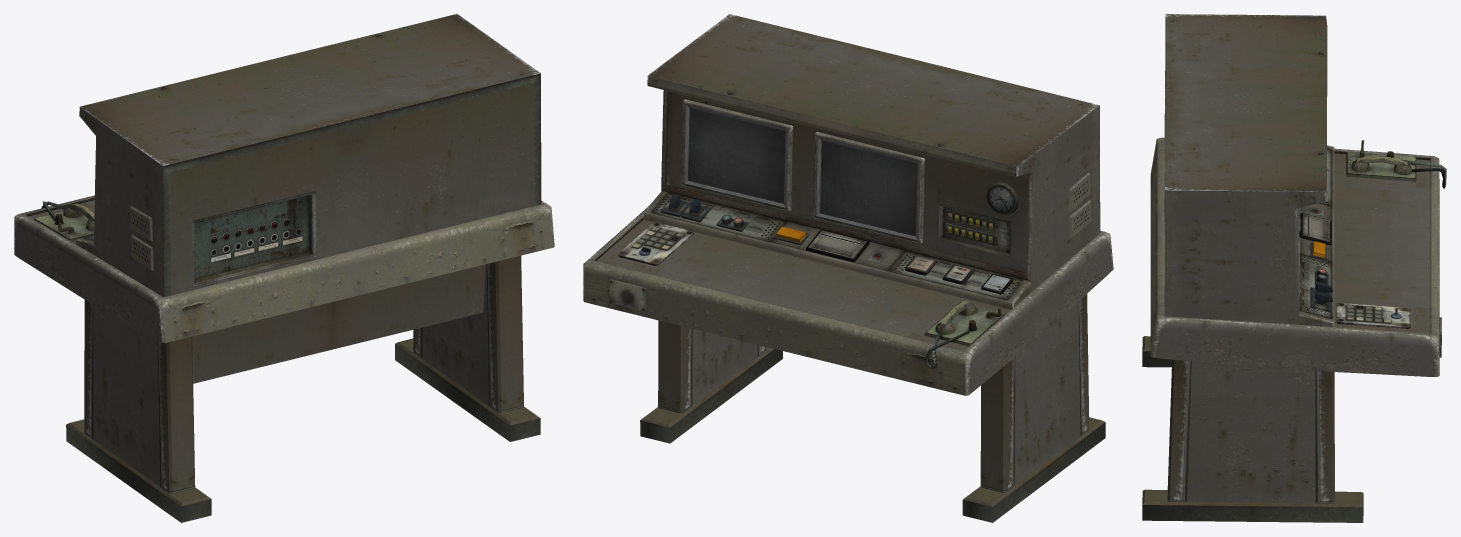
The model's file is MedicalComp.fbx.
The picture shows the model from 3 angles, left to right: view 1: azimuth 30°, elevation 25°; view 2: azimuth 150°, elevation 25°; view 3: azimuth 270°, elevation 25°; orthographic projection. The views are drawn at different scales.
Parts seen in each view (by area): view 1: mesh_0.2980; view 2: mesh_0.2980, mesh_2.680, mesh_1.2003; view 3: mesh_0.2980.
Part boxes in pixels (x1=…): mesh_0.2980: x1=14, y1=14, x2=554, y2=522; mesh_0.2980: x1=583, y1=14, x2=1113, y2=522; mesh_2.680: x1=684, y1=105, x2=919, y2=240; mesh_1.2003: x1=681, y1=99, x2=924, y2=243; mesh_0.2980: x1=1142, y1=14, x2=1446, y2=522.
Bounding box in the file's own units: 2.07 × 1.78 × 1.45.
